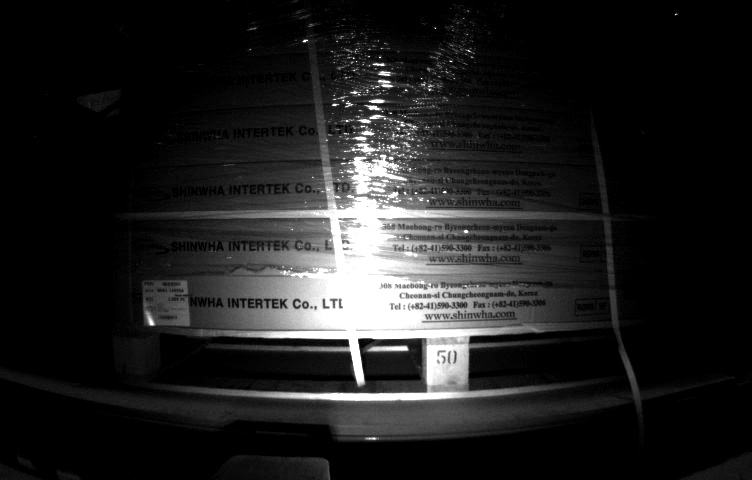True Barcode: (137, 277, 191, 327)
